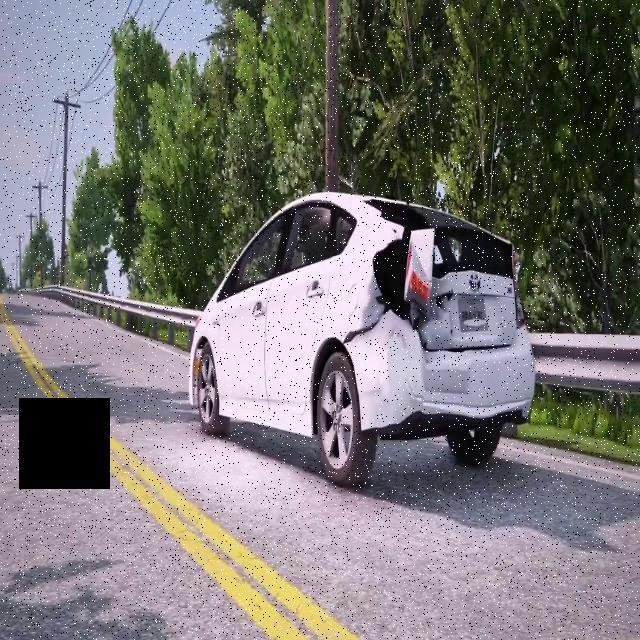vehicle: (195, 150, 561, 541)
